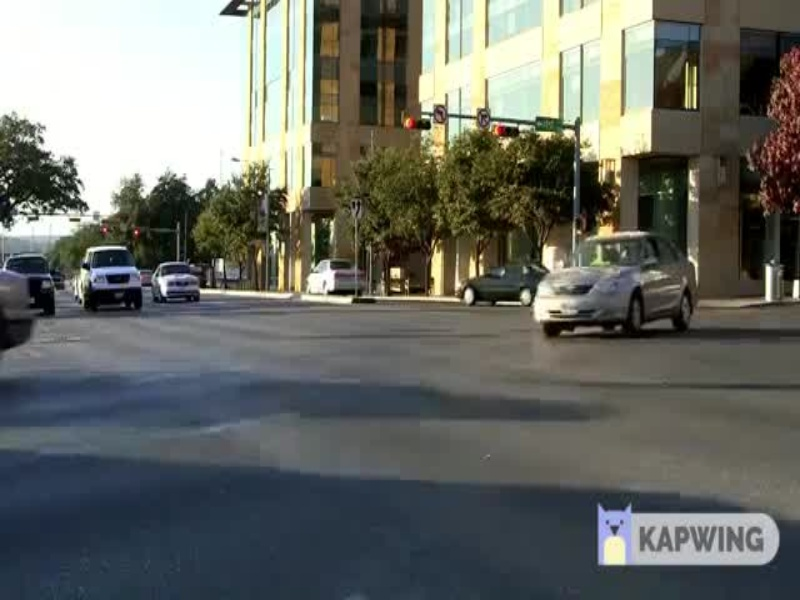car: (528, 228, 703, 340), (454, 259, 554, 310), (298, 250, 374, 300), (145, 256, 211, 305)
suv: (77, 242, 144, 318)
